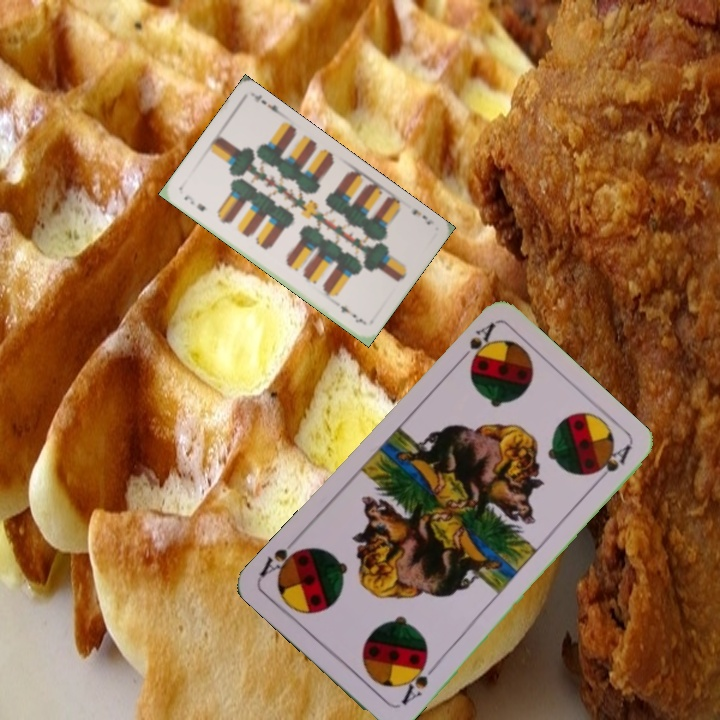E7: (180, 191, 209, 214), (408, 205, 437, 228)
SA: (453, 319, 502, 374), (397, 656, 440, 709)
